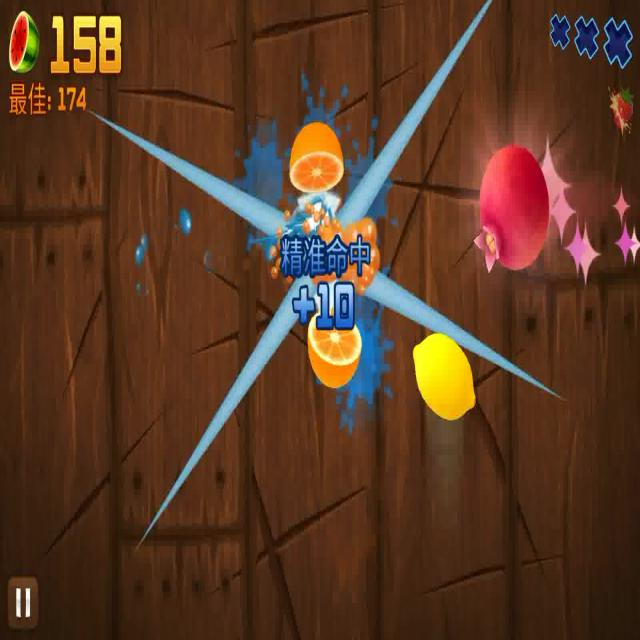fruit: (476, 136, 550, 275), (407, 330, 481, 428), (304, 299, 372, 386), (282, 124, 345, 186)
